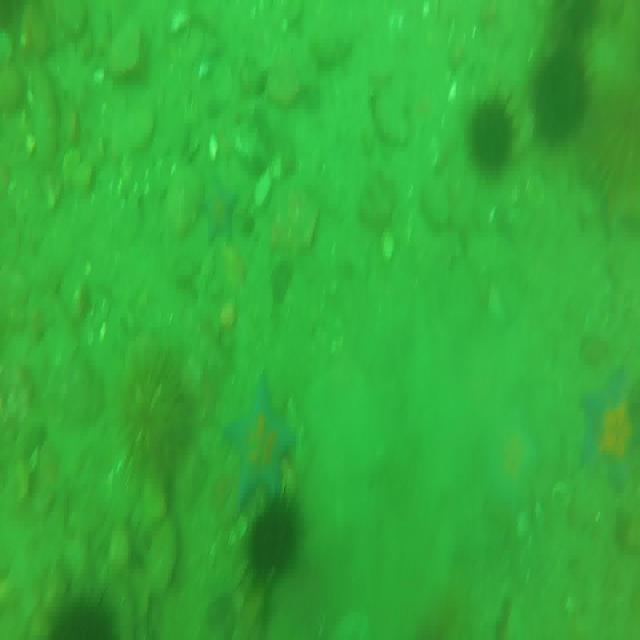echinus: (122, 352, 192, 467), (531, 36, 594, 148), (250, 492, 300, 579), (465, 96, 520, 168), (44, 594, 121, 640), (549, 3, 604, 45)
scallop: (380, 228, 400, 267), (258, 167, 274, 206), (206, 127, 223, 160)
starfish: (221, 376, 300, 514), (574, 365, 640, 494), (489, 414, 536, 507), (200, 179, 239, 246)
